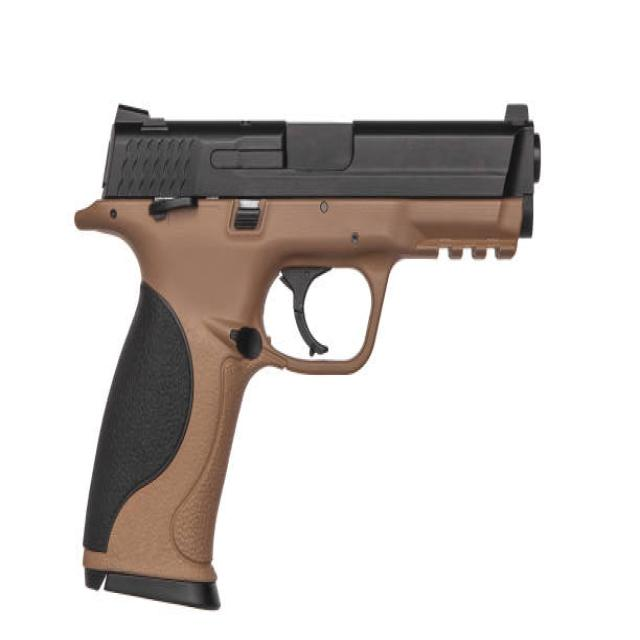pistol: (64, 93, 547, 619)
